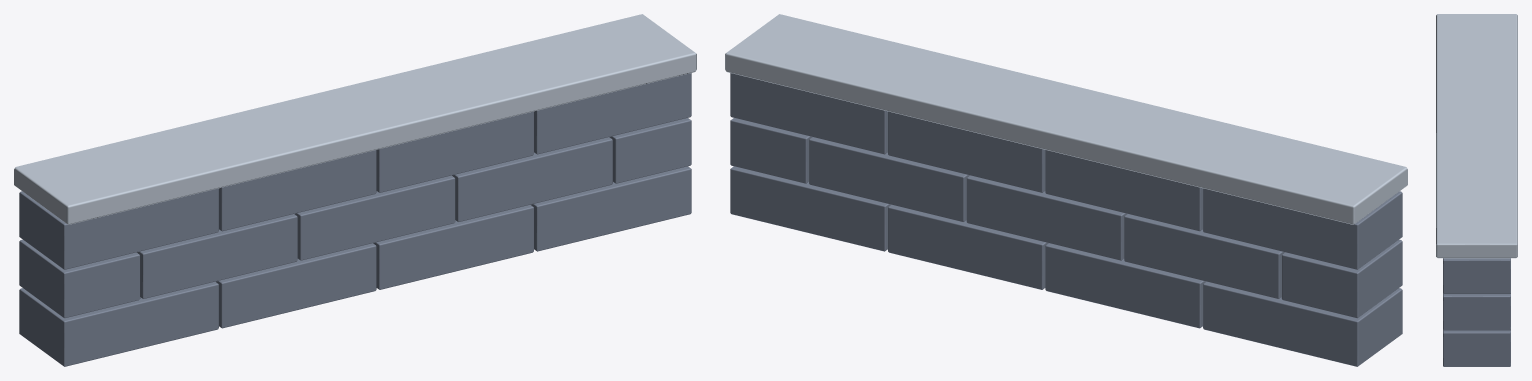
The model's file is garden-retaining-wall-lite.glb.
The picture shows the model from 3 angles, left to right: view 1: azimuth 30°, elevation 25°; view 2: azimuth 150°, elevation 25°; view 3: azimuth 270°, elevation 25°; orthographic projection. The views are drawn at different scales.
Visible parts, largest first — view 1: garden-retaining-wall; view 2: garden-retaining-wall; view 3: garden-retaining-wall.
Part boxes in pixels (x1,y1,x2,y2): garden-retaining-wall: (14, 14, 696, 366); garden-retaining-wall: (725, 14, 1407, 366); garden-retaining-wall: (1436, 14, 1517, 366).
Size of the model in its own units: 2 by 0.5 by 0.3.
